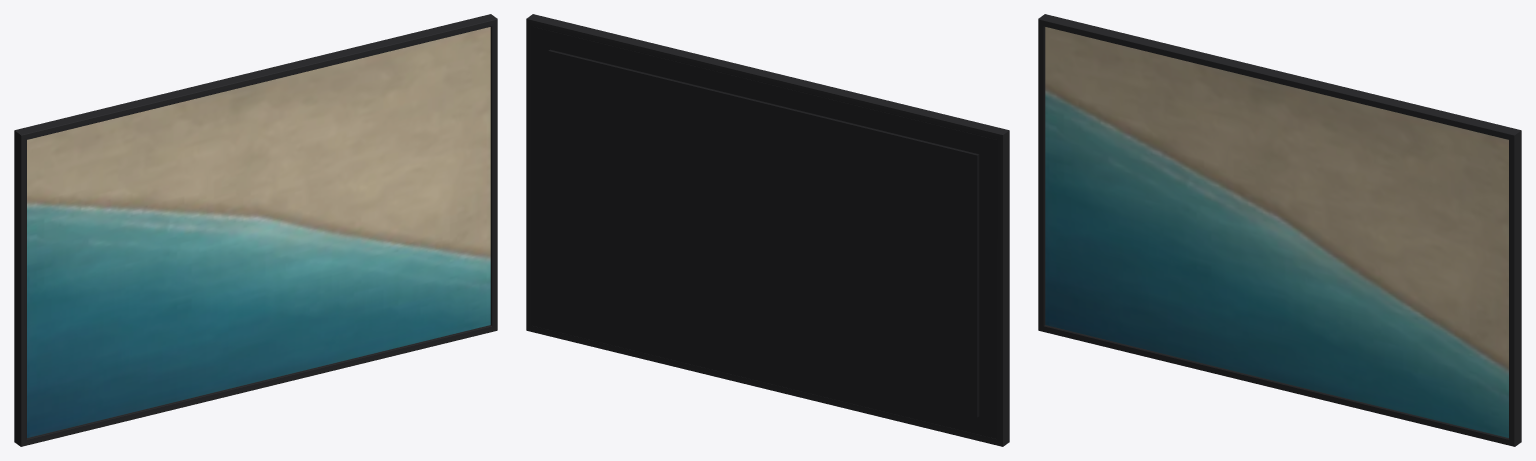
The model's file is art_shoreline.gltf.
3 views of the same model, side by side, from view 1: azimuth 30°, elevation 25°; view 2: azimuth 150°, elevation 25°; view 3: azimuth 330°, elevation 25° (orthographic).
Visible parts, largest first — view 1: Art_Shoreline_Art, Art_Shoreline_Frame; view 2: Art_Shoreline_Spacer, Art_Shoreline_Backing, Art_Shoreline_Frame; view 3: Art_Shoreline_Art, Art_Shoreline_Frame.
Boxes of the visible parts, x1,y1,x2,y2 form: Art_Shoreline_Art: (27,27,490,437); Art_Shoreline_Frame: (14,14,497,446); Art_Shoreline_Spacer: (548,49,979,417); Art_Shoreline_Backing: (532,26,996,438); Art_Shoreline_Frame: (526,14,1009,446); Art_Shoreline_Art: (1045,27,1508,437); Art_Shoreline_Frame: (1038,14,1521,446).
Bounding box in the file's own units: 1.6 × 1 × 0.05.
Materials: 3 (1 with a texture image).
